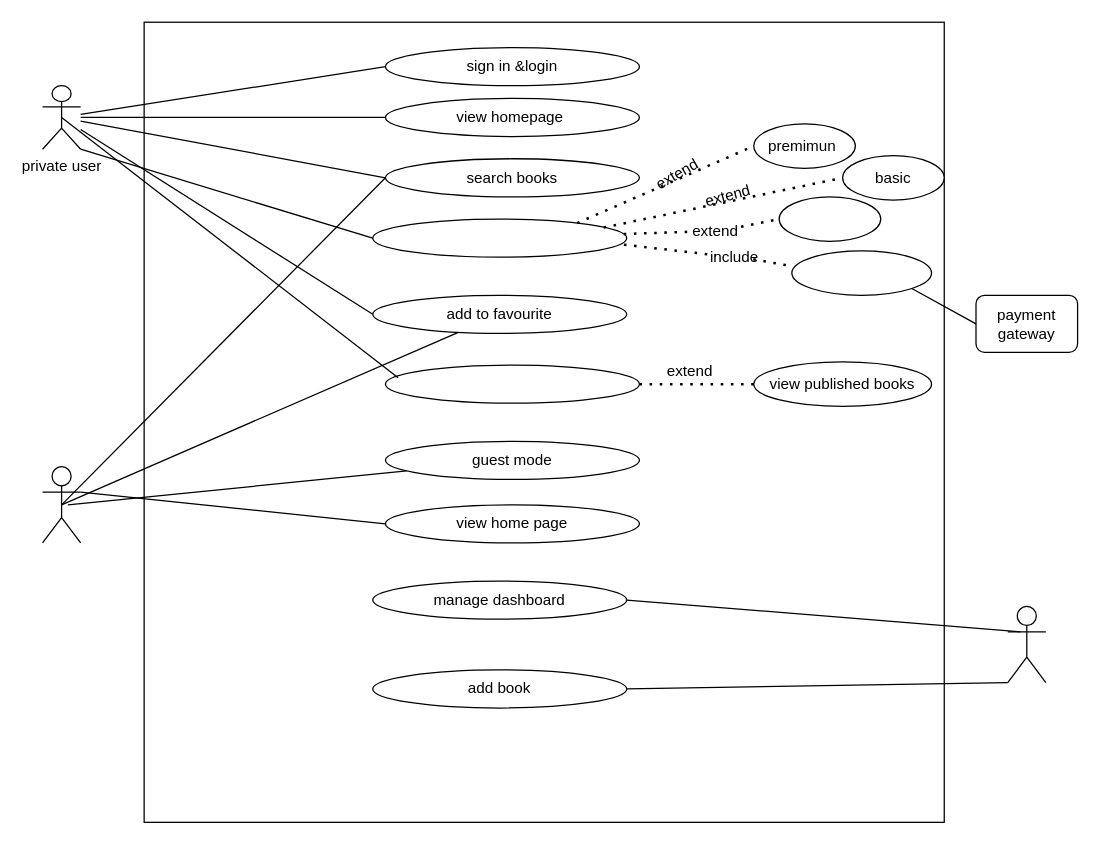
Some shapes in this 1100 by 845 pixel diagram are drawn without their labels. The centre of each missing label's shape, as x and y in pixels:
add book to published: point (511, 383)
add to cart: point (499, 237)
admin: point (1026, 644)
make payment: point (861, 272)
public user: point (61, 504)
standard: point (829, 218)
